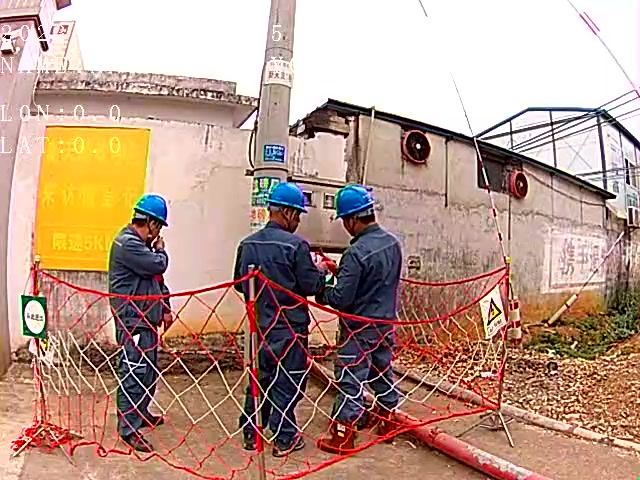halt: (339, 187, 381, 238), (268, 184, 312, 230), (132, 196, 173, 245)
inear: (281, 208, 300, 228), (146, 219, 163, 240), (346, 217, 362, 237)
